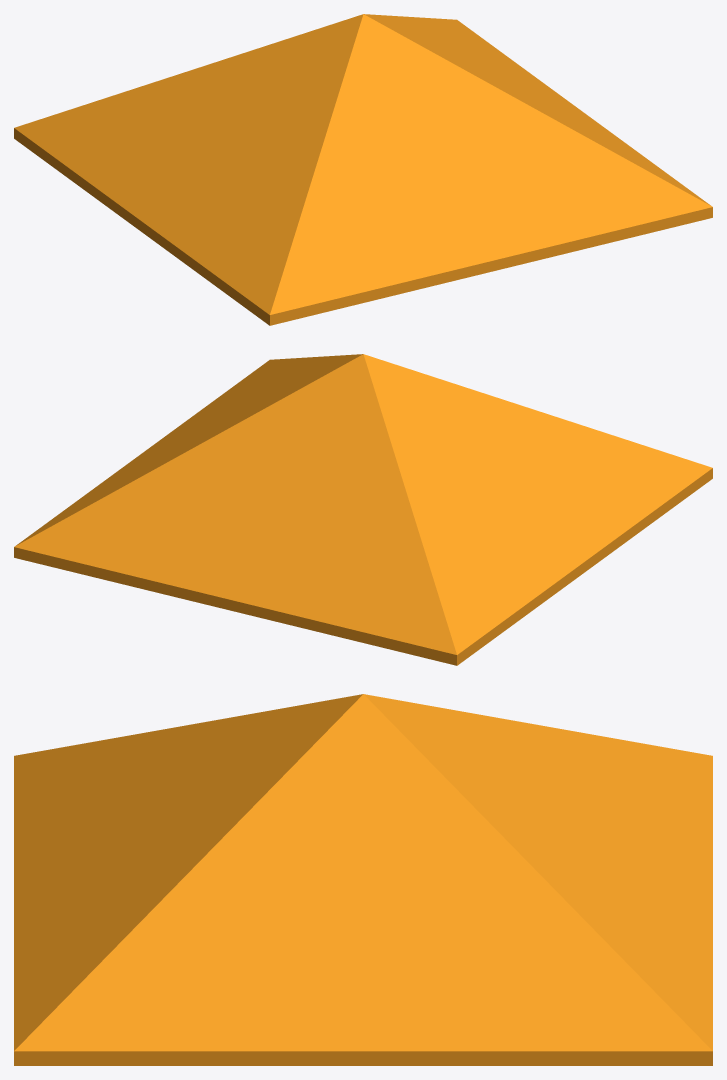
File: SM_Buildings_RoofAngledPoint_5x5_01.fbx
3 views of the same model, one above another, from view 1: azimuth 30°, elevation 25°; view 2: azimuth 150°, elevation 25°; view 3: azimuth 270°, elevation 25° (orthographic). The views are drawn at different scales.
Parts seen in each view (by area): view 1: SM_Buildings_RoofAngledPoint_5x5_01; view 2: SM_Buildings_RoofAngledPoint_5x5_01; view 3: SM_Buildings_RoofAngledPoint_5x5_01.
Boxes of the visible parts, bbox=[...] form: SM_Buildings_RoofAngledPoint_5x5_01: bbox=[14, 14, 712, 325]; SM_Buildings_RoofAngledPoint_5x5_01: bbox=[14, 354, 712, 665]; SM_Buildings_RoofAngledPoint_5x5_01: bbox=[14, 694, 712, 1065].
Bounding box in the file's own units: 500 × 177 × 500.
